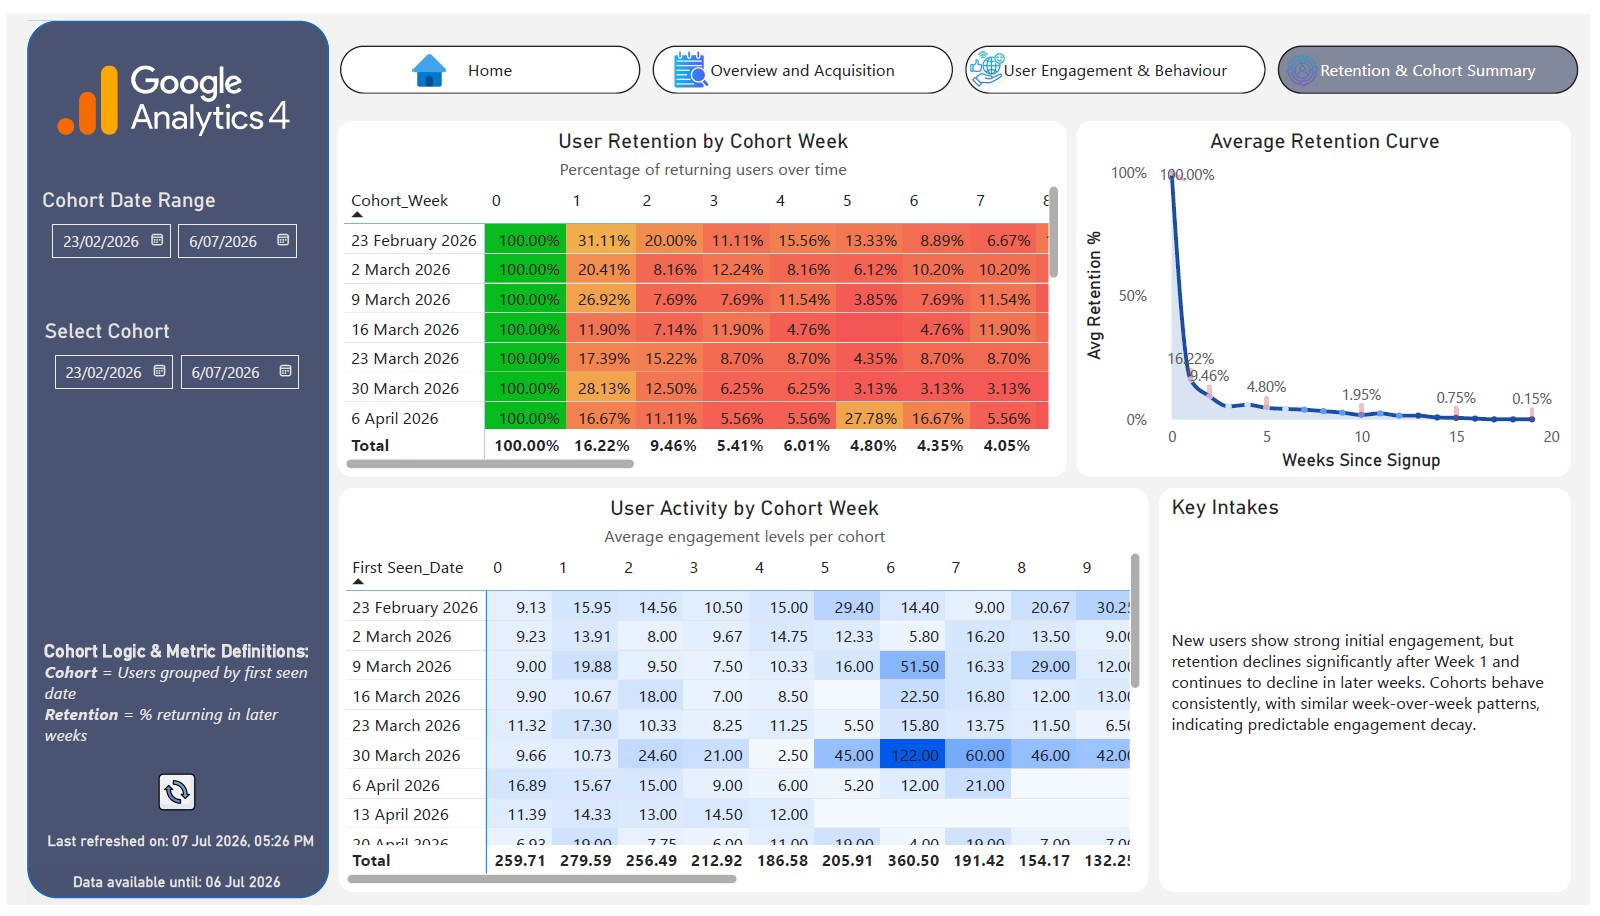

This screenshot's page, from the dashboard's own definition file:
{"tool":"powerbi","page":{"name":"Retention & Cohort Summary","canvas":[1280,720],"ordinal":3},"visuals":[{"type":"shape","box":[11,0,254,720],"z":0},{"type":"pivotTable","title":"User Retention by Cohort Week","fields":{"Values":["Measure.Retention Total %"],"Columns":["Cohort Analysis.W.Weeks Since Cohort"],"Rows":["Cohort Analysis.W.Cohort Week test"]},"box":[267.3,86.4,590,287.3],"z":3000},{"type":"pivotTable","title":"User Activity by Cohort Week","fields":{"Rows":["Event Frequency per User Cohort.first_seen_date"],"Columns":["Event Frequency per User Cohort.weeks_since_cohort"],"Values":["Sum(Event Frequency per User Cohort.avg_events_per_user)"]},"box":[267.5,382.7,655.6,327.4],"z":4000},{"type":"lineChart","title":"Average Retention Curve","fields":{"Category":["Cohort Analysis.W.Weeks Since Cohort"],"Y":["Measure.Avg Retention %"]},"box":[864.5,86.4,400,287.3],"z":5000},{"type":"textbox","title":"Key Intakes ","box":[931.8,382.7,332.7,327.3],"z":6000},{"type":"card","fields":{"Values":["Measure.Last Refresh Time"]},"box":[17.2,653.8,245.7,33.6],"z":9000},{"type":"card","title":"Data Available until","fields":{"Values":["Measure.BigQuery Data Available Until"]},"box":[14.5,687.4,244.8,32.6],"z":10000},{"type":"image","box":[121.5,612.1,30.8,33.6],"z":11000},{"type":"textbox","box":[25.4,501.5,231.2,103.4],"z":12000},{"type":"slicer","title":"Cohort Date Range","fields":{"Values":["Cohort Analysis.W.CohortWeek."]},"box":[22.7,135.5,230.9,72.7],"z":13000},{"type":"slicer","title":"Select Cohort","fields":{"Values":["Event Frequency per User Cohort.FirstSeenDate"]},"box":[25.5,246.4,220,66.4],"z":14000},{"type":"pageNavigator","box":[264.4,19.9,1015.6,49.9],"z":18000},{"type":"image","box":[316.1,31.7,49.9,26.3],"z":19000},{"type":"image","box":[1030.6,31.7,33.6,26.3],"z":20000},{"type":"image","box":[779.4,29.9,27.2,28.1],"z":21000},{"type":"image","box":[533.7,28.1,38.1,32.6],"z":22000},{"type":"image","box":[4.5,10.9,272,117.9],"z":22001}]}

Visuals, with their boxes in screenshot pixels (x1, y1, x2, y2), scaled from the page's 1280x720 canvas onto the 1600x916 screenshot:
shape: [x1=14, y1=0, x2=331, y2=915]
"User Retention by Cohort Week" pivotTable: [x1=334, y1=110, x2=1072, y2=475]
"User Activity by Cohort Week" pivotTable: [x1=334, y1=487, x2=1154, y2=903]
"Average Retention Curve" lineChart: [x1=1081, y1=110, x2=1581, y2=475]
"Key Intakes " textbox: [x1=1165, y1=487, x2=1581, y2=903]
card - Measure.Last Refresh Time: [x1=22, y1=832, x2=329, y2=875]
"Data Available until" card: [x1=18, y1=875, x2=324, y2=915]
image: [x1=152, y1=779, x2=190, y2=821]
textbox: [x1=32, y1=638, x2=321, y2=770]
"Cohort Date Range" slicer: [x1=28, y1=172, x2=317, y2=265]
"Select Cohort" slicer: [x1=32, y1=313, x2=307, y2=398]
pageNavigator: [x1=330, y1=25, x2=1599, y2=89]
image: [x1=395, y1=40, x2=458, y2=74]
image: [x1=1288, y1=40, x2=1330, y2=74]
image: [x1=974, y1=38, x2=1008, y2=74]
image: [x1=667, y1=36, x2=715, y2=77]
image: [x1=6, y1=14, x2=346, y2=164]
